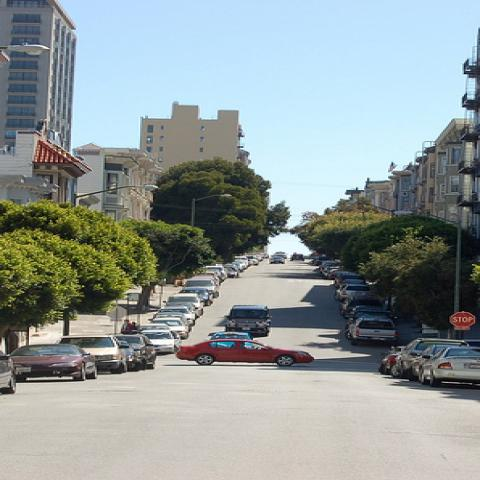car: (114, 250, 306, 371), (176, 338, 314, 366), (10, 344, 97, 382), (389, 338, 470, 378), (54, 335, 130, 375), (416, 344, 479, 388), (345, 316, 400, 345), (224, 306, 273, 338), (338, 295, 382, 320), (138, 330, 181, 355), (347, 305, 397, 322), (182, 279, 222, 298), (332, 283, 374, 301), (0, 351, 16, 394)
